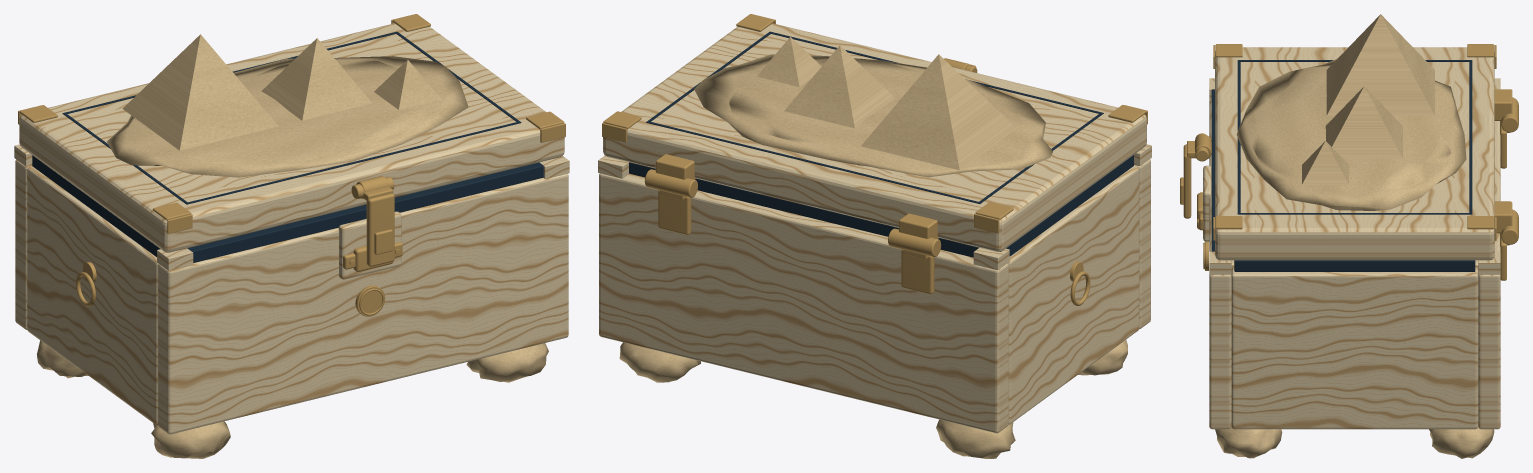
The model's file is egypt.glb.
3 views of the same model, side by side, from view 1: azimuth 30°, elevation 25°; view 2: azimuth 150°, elevation 25°; view 3: azimuth 270°, elevation 25° (orthographic). The views are drawn at different scales.
Parts seen in each view (by area): view 1: Alabaster / front, Lid / polished slab, Alabaster / side, Terrain / desert plateau, Pyramid / 1, Mineral seam / long, Pyramid / 2, Limestone foot, Limestone foot.002, Alabaster / rear, Pyramid / 3, Latch / lifting hasp (+6 smaller); view 2: Alabaster / rear, Lid / polished slab, Alabaster / side, Terrain / desert plateau, Pyramid / 1, Pyramid / 2, Mineral seam / long.001, Limestone foot.001, Alabaster / front, Limestone foot.003, Pyramid / 3, Mineral seam / side (+10 smaller); view 3: Alabaster / side.001, Lid / polished slab, Terrain / desert plateau, Pyramid / 1, Alabaster / rear, Pyramid / 2, Alabaster / front, Mineral seam / side.001, Limestone foot.002, Limestone foot.003, Pyramid / 3, Mineral seam / long (+15 smaller).
Part boxes in pixels (left/top/right/bottom): Alabaster / front: left=158, top=173, right=568, bottom=434; Lid / polished slab: left=19, top=23, right=564, bottom=252; Alabaster / side: left=27, top=166, right=158, bottom=425; Terrain / desert plateau: left=107, top=56, right=468, bottom=177; Pyramid / 1: left=122, top=34, right=278, bottom=150; Mineral seam / long: left=187, top=162, right=543, bottom=262; Pyramid / 2: left=261, top=38, right=372, bottom=120; Limestone foot: left=151, top=421, right=230, bottom=458; Limestone foot.002: left=466, top=343, right=548, bottom=382; Alabaster / rear: left=15, top=159, right=32, bottom=329; Pyramid / 3: left=374, top=60, right=441, bottom=109; Latch / lifting hasp: left=366, top=193, right=394, bottom=266; Alabaster / rear: left=599, top=173, right=1008, bottom=433; Lid / polished slab: left=603, top=23, right=1146, bottom=251; Alabaster / side: left=1008, top=166, right=1139, bottom=424; Terrain / desert plateau: left=694, top=54, right=1052, bottom=177; Pyramid / 1: left=861, top=54, right=1016, bottom=170; Pyramid / 2: left=784, top=45, right=895, bottom=128; Mineral seam / long.001: left=629, top=162, right=978, bottom=257; Limestone foot.001: left=936, top=419, right=1015, bottom=458; Alabaster / front: left=1134, top=159, right=1150, bottom=329; Limestone foot.003: left=619, top=342, right=700, bottom=382; Pyramid / 3: left=757, top=37, right=821, bottom=86; Mineral seam / side: left=1006, top=155, right=1133, bottom=256; Alabaster / side.001: left=1231, top=267, right=1478, bottom=429; Lid / polished slab: left=1215, top=47, right=1494, bottom=260; Terrain / desert plateau: left=1236, top=59, right=1466, bottom=210; Pyramid / 1: left=1326, top=14, right=1434, bottom=115; Alabaster / rear: left=1478, top=121, right=1500, bottom=429; Pyramid / 2: left=1325, top=86, right=1402, bottom=158; Alabaster / front: left=1209, top=101, right=1231, bottom=429; Mineral seam / side.001: left=1234, top=260, right=1475, bottom=271; Limestone foot.002: left=1215, top=427, right=1282, bottom=458; Limestone foot.003: left=1429, top=427, right=1494, bottom=458; Pyramid / 3: left=1302, top=141, right=1348, bottom=184; Mineral seam / long: left=1211, top=89, right=1214, bottom=251.
Size of the model in its own units: 3.79 by 3.11 by 2.88.
4 materials, 2 textured.
